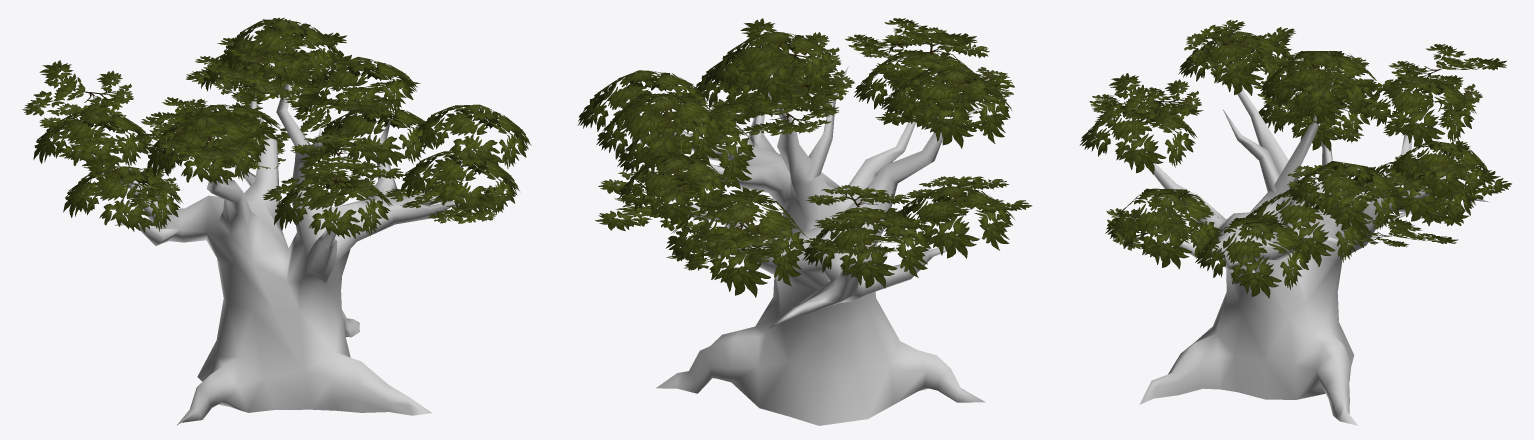
Rendered from environment_Tree_Green_003_a.FBX.
3 renders of one model, left to right at view 1: azimuth 30°, elevation 25°; view 2: azimuth 150°, elevation 25°; view 3: azimuth 270°, elevation 25°, orthographic. The views are drawn at different scales.
Parts seen in each view (by area): view 1: environment_Tree_Green_003_a, environment_Tree_Green_003_b; view 2: environment_Tree_Green_003_a, environment_Tree_Green_003_b; view 3: environment_Tree_Green_003_a, environment_Tree_Green_003_b.
Part boxes in pixels (left/top/right/bottom): environment_Tree_Green_003_a: left=22, top=17, right=531, bottom=238; environment_Tree_Green_003_b: left=72, top=50, right=462, bottom=425; environment_Tree_Green_003_a: left=577, top=18, right=1031, bottom=297; environment_Tree_Green_003_b: left=626, top=66, right=985, bottom=425; environment_Tree_Green_003_a: left=1079, top=20, right=1511, bottom=298; environment_Tree_Green_003_b: left=1127, top=63, right=1489, bottom=425.
Bounding box in the file's own units: 899 × 827 × 664.
